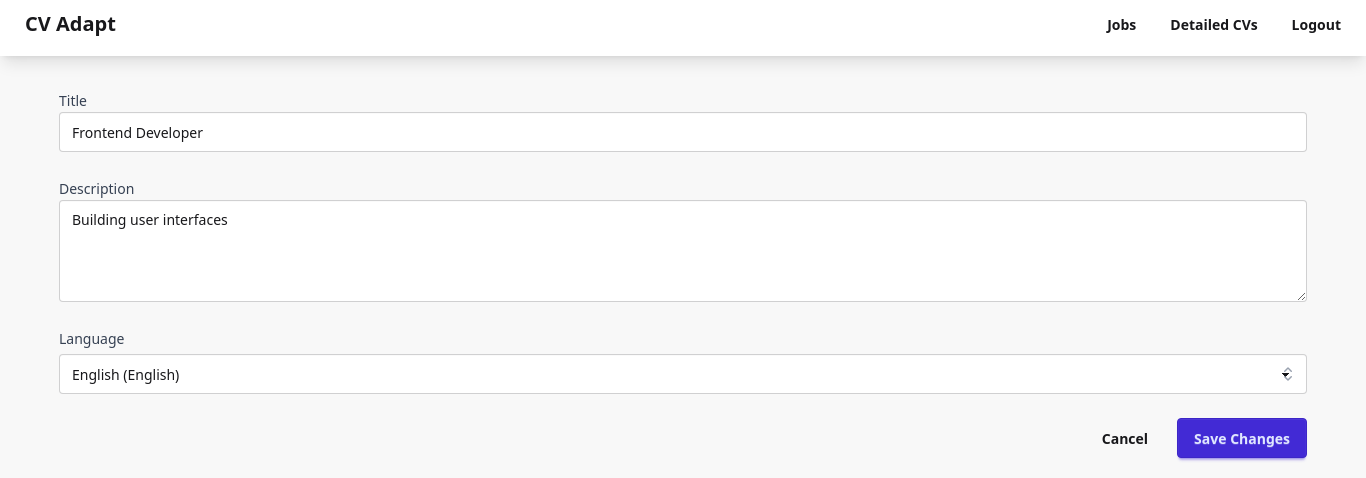
it: Job Form Operations › should update existing job and navigate to detail
Note: Update title
Replace the text in the field labelled "Title" with "Senior Frontend Developer" at (683, 132), box [59,112,1307,152]
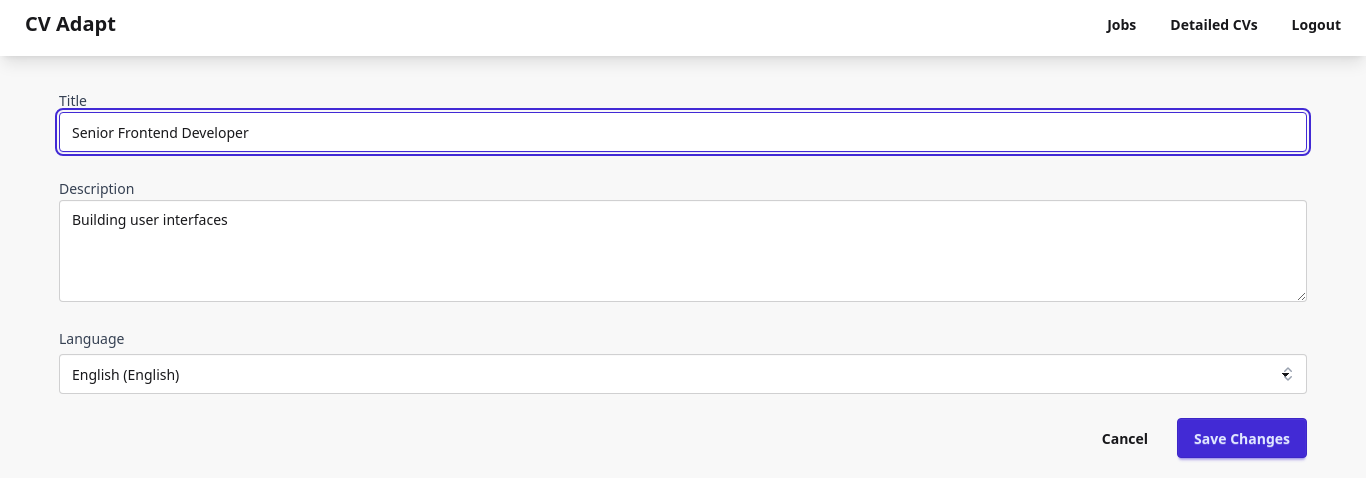
Note: Submit form
Click the button "Save Changes" at (1242, 438), box [1177,418,1307,458]
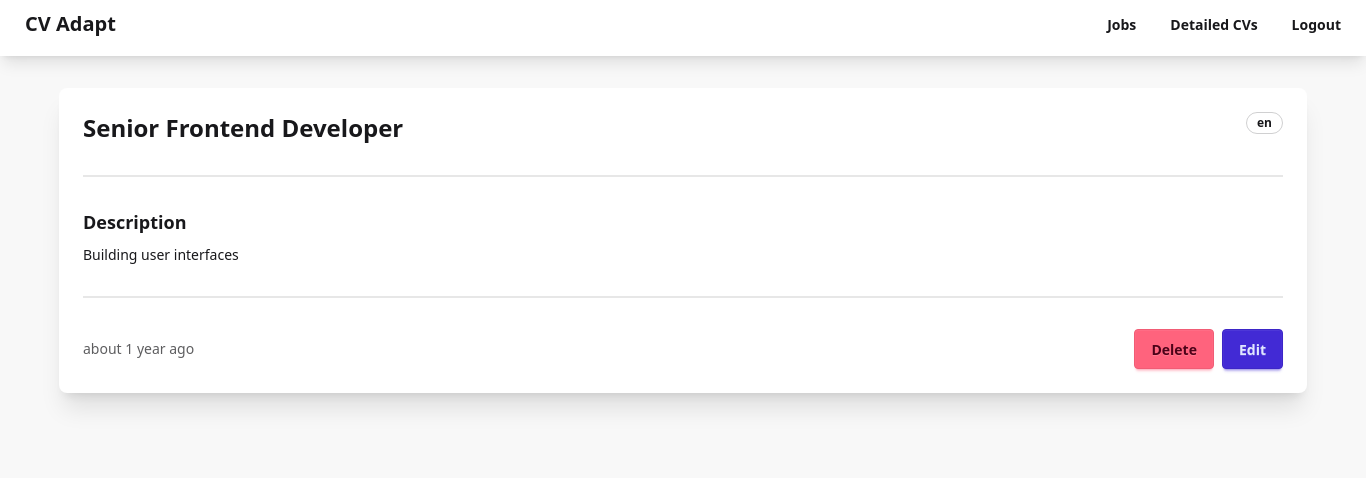
Check: the heading "Senior Frontend Developer" is shown, box [83,112,403,144]
